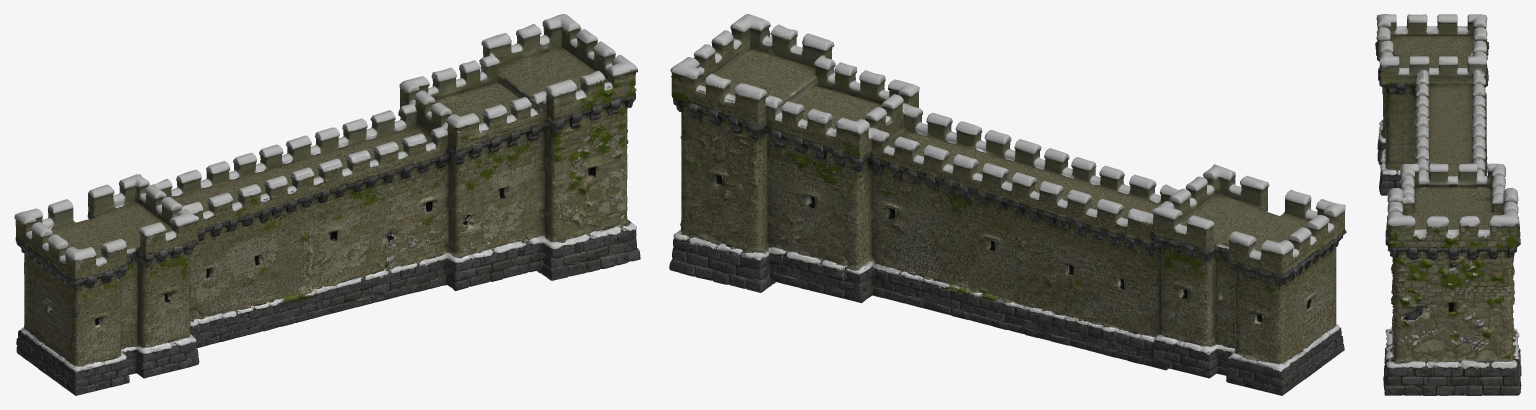
Rendered from chengqiang2.fbx.
3 views of the same model, side by side, from view 1: azimuth 30°, elevation 25°; view 2: azimuth 150°, elevation 25°; view 3: azimuth 270°, elevation 25° (orthographic). The views are drawn at different scales.
Parts seen in each view (by area): view 1: tripo_node_9ac9334f; view 2: tripo_node_9ac9334f; view 3: tripo_node_9ac9334f.
Boxes of the visible parts, left/top/right/bottom form: tripo_node_9ac9334f: left=14, top=14, right=640, bottom=395; tripo_node_9ac9334f: left=669, top=14, right=1346, bottom=395; tripo_node_9ac9334f: left=1375, top=14, right=1521, bottom=395.
Size of the model in its own units: 98.11 by 23.93 by 31.82.
1 material, 1 textured.
